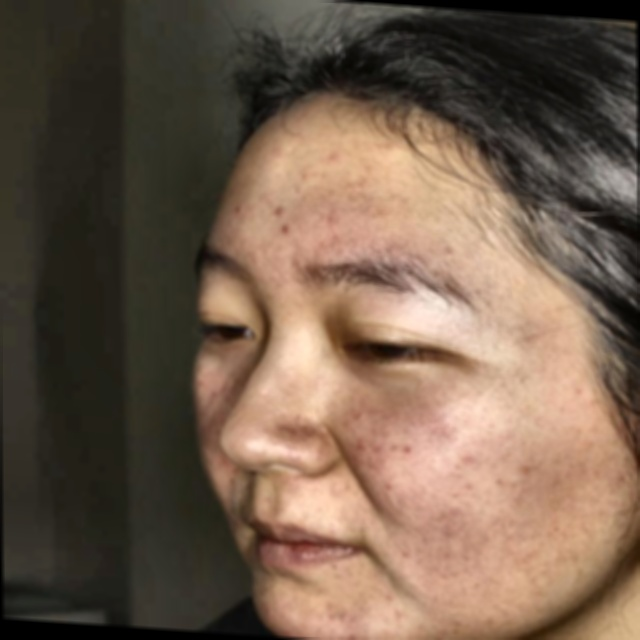comedone: (265, 200, 300, 243)
